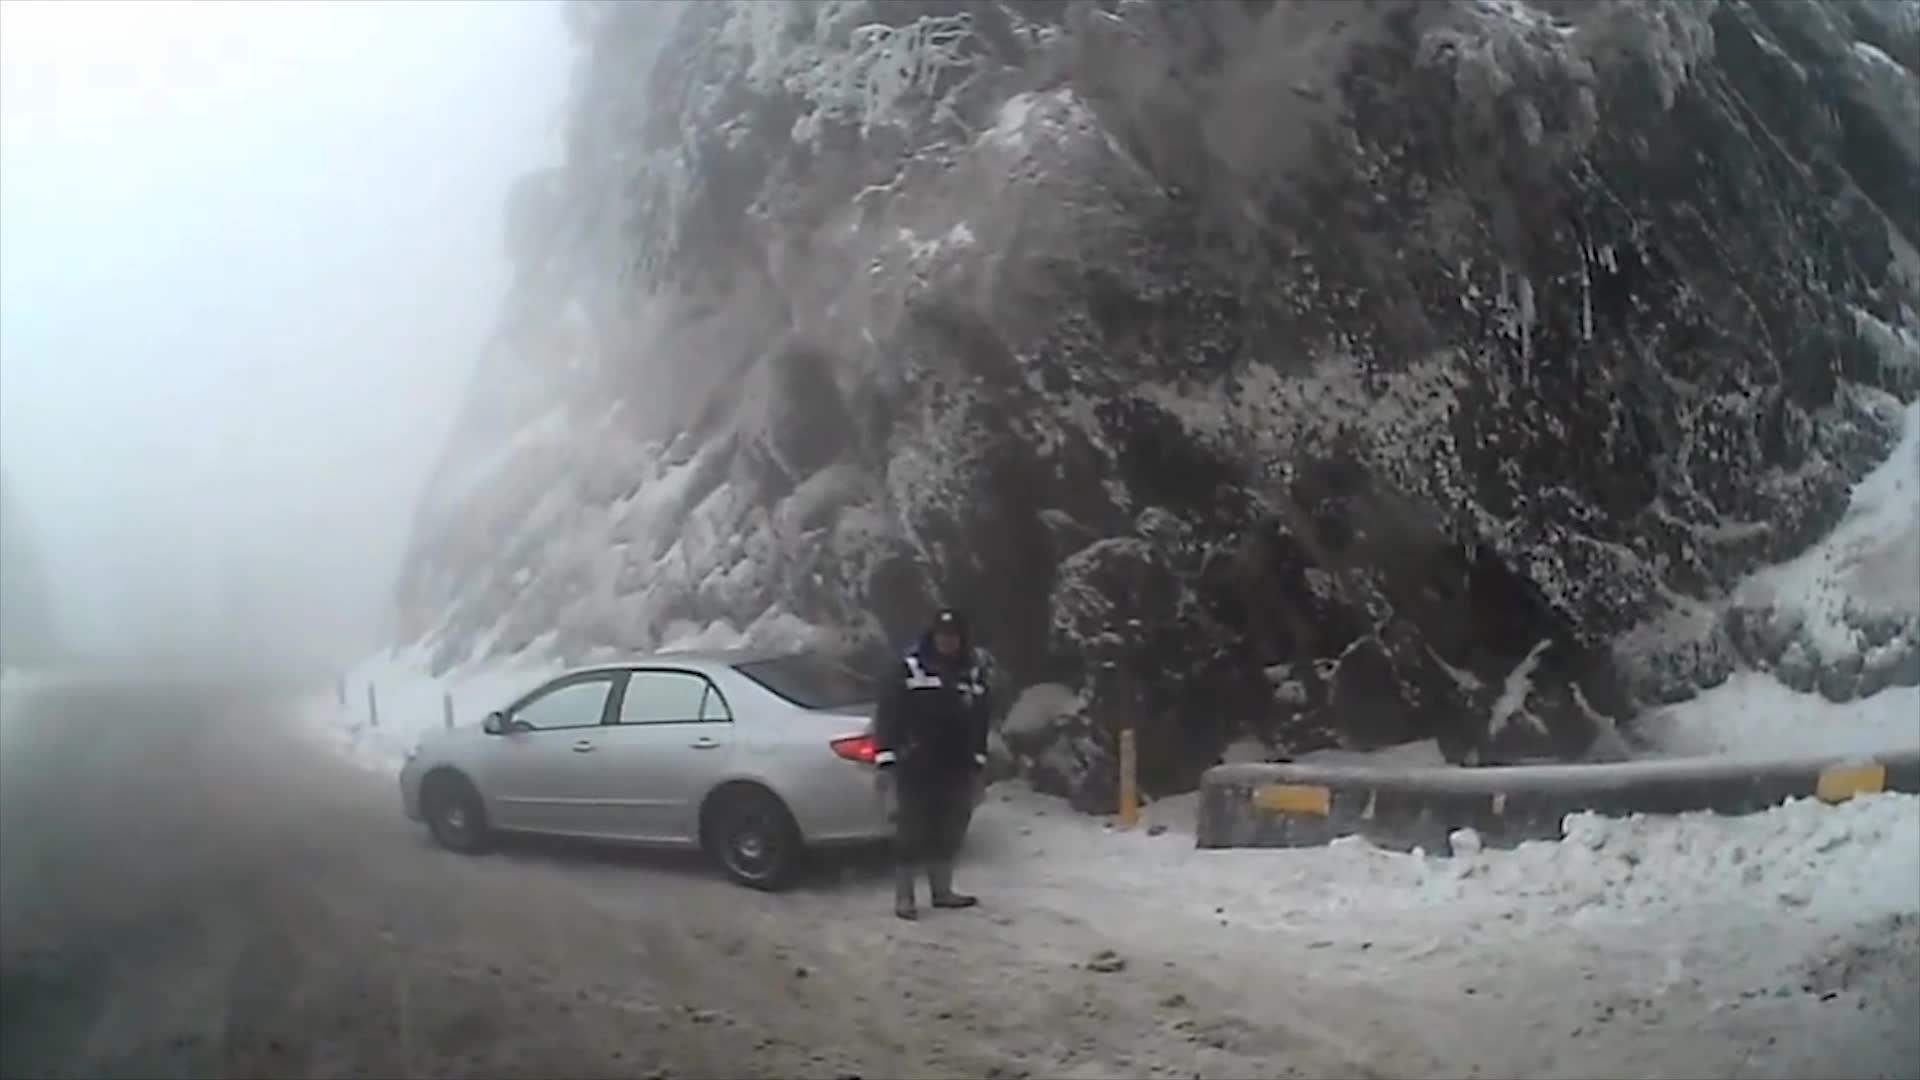pedestrian: (873, 601, 986, 915)
vehicle: (396, 646, 986, 893)
